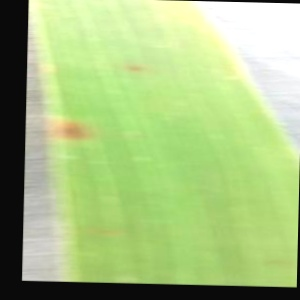Bacterial_Leaf_Blight: (49, 114, 99, 148), (122, 60, 147, 74)
